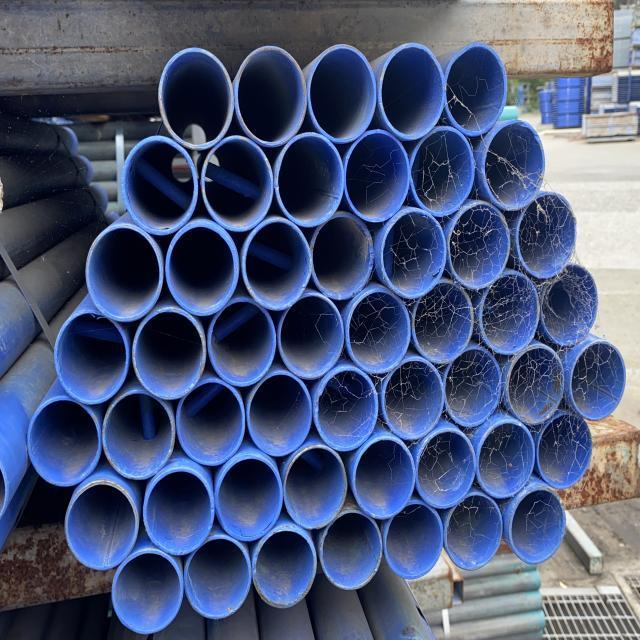pipe: (118, 134, 198, 238), (157, 44, 234, 152), (85, 225, 165, 326), (236, 44, 308, 152), (63, 478, 141, 577), (307, 38, 378, 146), (164, 220, 240, 320), (55, 310, 130, 410), (130, 308, 207, 404), (27, 394, 102, 491), (202, 137, 275, 236), (100, 388, 176, 482), (378, 40, 446, 144), (242, 215, 312, 314), (142, 466, 217, 558), (276, 133, 345, 232), (111, 549, 186, 639), (175, 378, 247, 471), (481, 114, 549, 212), (206, 298, 278, 390), (443, 41, 512, 136), (216, 452, 286, 544), (379, 210, 447, 304), (344, 128, 410, 224), (345, 285, 413, 378), (184, 534, 254, 624), (410, 124, 476, 219), (282, 442, 350, 532), (278, 291, 344, 383), (315, 364, 381, 455), (246, 372, 314, 460), (448, 200, 513, 292), (514, 191, 578, 284), (310, 212, 376, 302), (351, 432, 416, 522), (380, 356, 446, 444), (568, 338, 632, 426), (416, 423, 479, 512), (320, 508, 385, 593), (252, 526, 316, 612), (412, 280, 476, 366), (507, 486, 571, 570), (540, 262, 600, 350), (480, 274, 542, 359), (444, 346, 503, 431), (383, 502, 444, 584), (476, 418, 534, 504), (446, 491, 506, 574), (506, 343, 565, 427), (538, 410, 596, 492)
